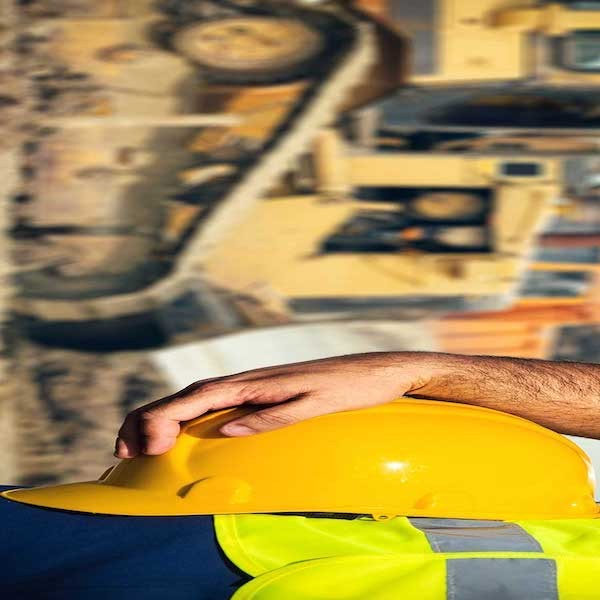helmet: (59, 396, 589, 524)
